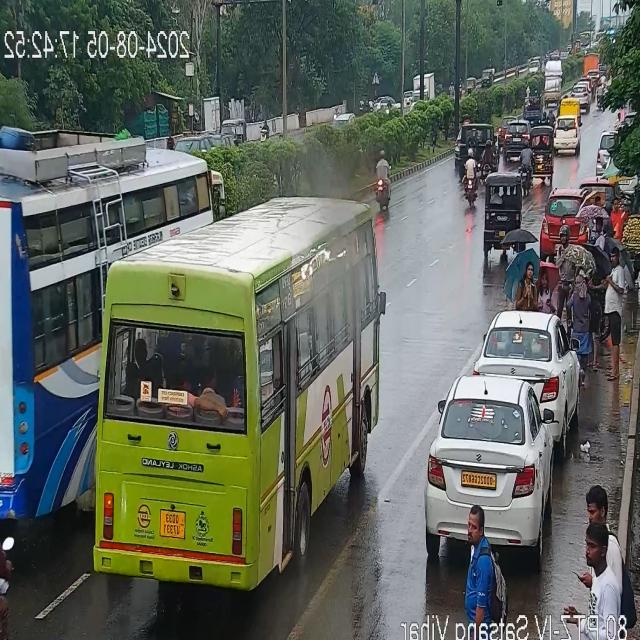2-wheelers: (451, 152, 482, 205), (368, 150, 392, 208), (0, 506, 9, 640)
auto: (481, 170, 526, 216), (528, 125, 556, 182), (452, 121, 495, 147), (220, 112, 248, 144)
bus: (51, 207, 376, 593)
car: (420, 373, 572, 548), (477, 312, 577, 414), (540, 192, 586, 252), (500, 120, 532, 160), (550, 116, 582, 153), (570, 83, 592, 112)
pedestrian: (458, 502, 510, 640), (566, 536, 630, 640), (597, 247, 635, 369), (564, 252, 592, 370), (578, 478, 612, 552), (516, 258, 540, 312)
